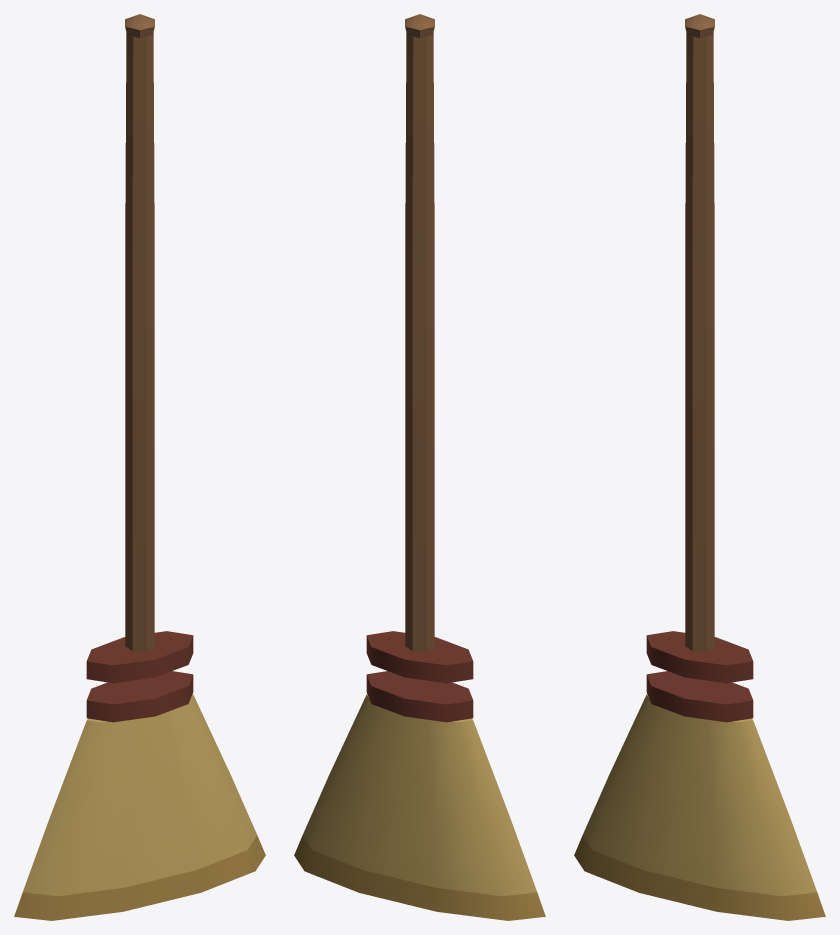
Rendered from broom.glb.
3 views of the same model, side by side, from view 1: azimuth 30°, elevation 25°; view 2: azimuth 150°, elevation 25°; view 3: azimuth 330°, elevation 25° (orthographic).
Parts seen in each view (by area): view 1: broom; view 2: broom; view 3: broom.
Boxes of the visible parts, x1,y1,x2,y2 form: broom: (14, 14, 265, 920); broom: (294, 14, 545, 920); broom: (574, 14, 825, 920).
Size of the model in its own units: 0.236 by 0.781 by 0.0718.
